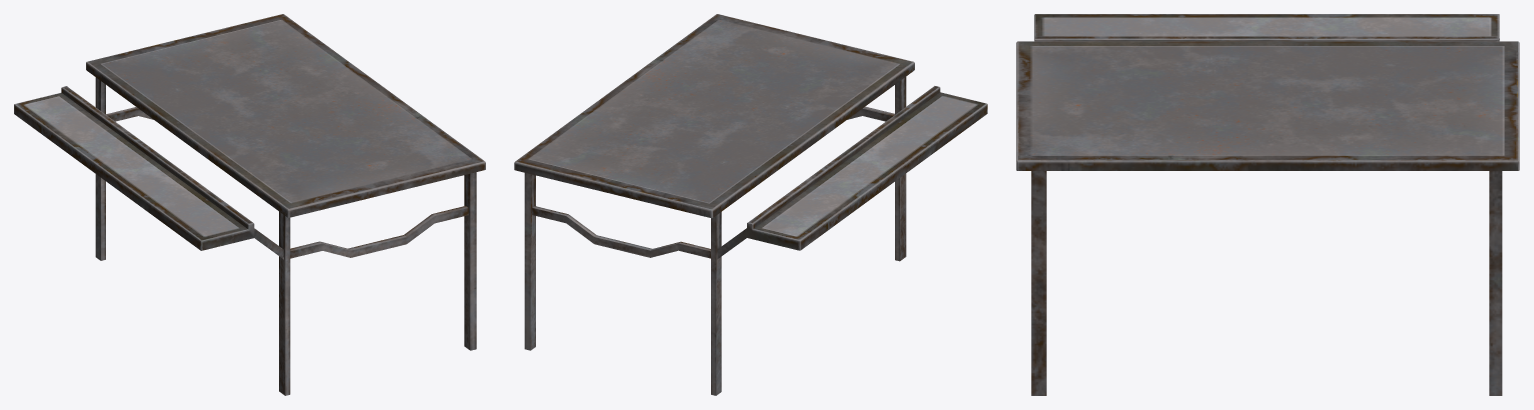
Rendered from SM_Tables_LP_Display_Stand_Table1.fbx.
The picture shows the model from 3 angles, left to right: view 1: azimuth 30°, elevation 25°; view 2: azimuth 150°, elevation 25°; view 3: azimuth 270°, elevation 25°; orthographic projection. The views are drawn at different scales.
Parts seen in each view (by area): view 1: SM_Tables_LP_Display_Stand_Table1_LOD0; view 2: SM_Tables_LP_Display_Stand_Table1_LOD0; view 3: SM_Tables_LP_Display_Stand_Table1_LOD0.
Boxes of the visible parts, bbox=[...] form: SM_Tables_LP_Display_Stand_Table1_LOD0: bbox=[14, 14, 485, 395]; SM_Tables_LP_Display_Stand_Table1_LOD0: bbox=[514, 14, 987, 395]; SM_Tables_LP_Display_Stand_Table1_LOD0: bbox=[1016, 14, 1519, 395].
Size of the model in its own units: 155 by 196 by 102.
1 material, 1 textured.
